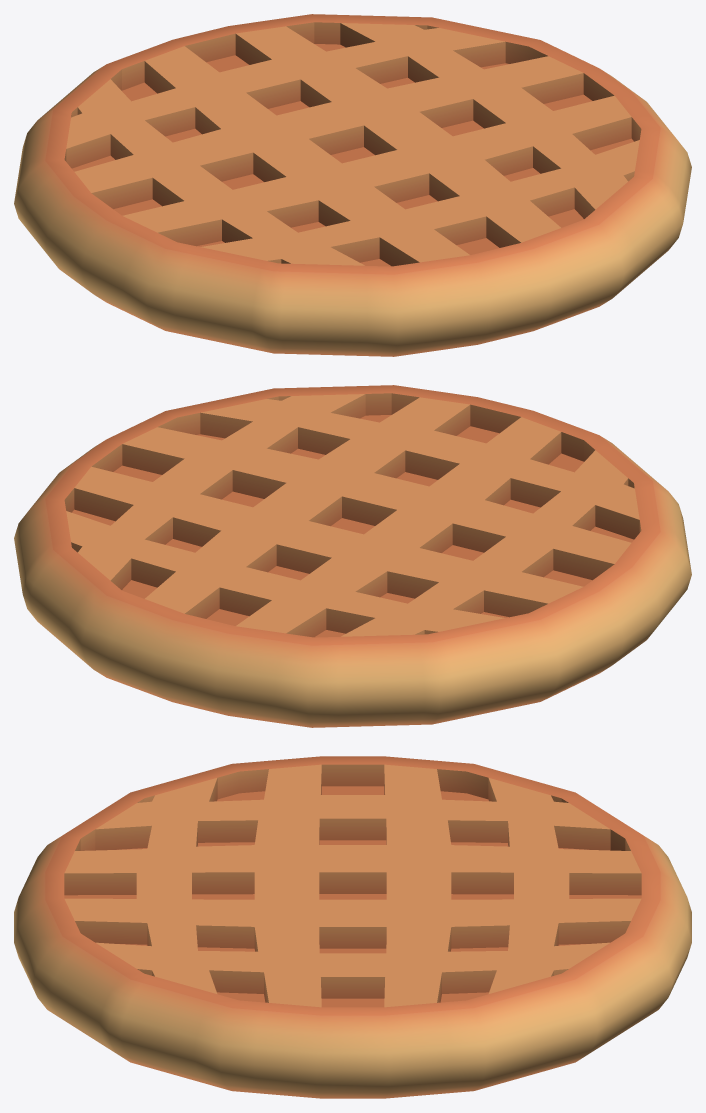
File: Waffle_V1_00.fbx
The picture shows the model from 3 angles, top to bottom: view 1: azimuth 30°, elevation 25°; view 2: azimuth 150°, elevation 25°; view 3: azimuth 270°, elevation 25°; orthographic projection.
Visible parts, largest first — view 1: Waffle_V1_00; view 2: Waffle_V1_00; view 3: Waffle_V1_00.
Part boxes in pixels (x1,y1,x2,y2): Waffle_V1_00: (14,14,691,356); Waffle_V1_00: (14,385,691,727); Waffle_V1_00: (14,756,691,1098).
Size of the model in its own units: 62.86 by 8.52 by 63.11.
